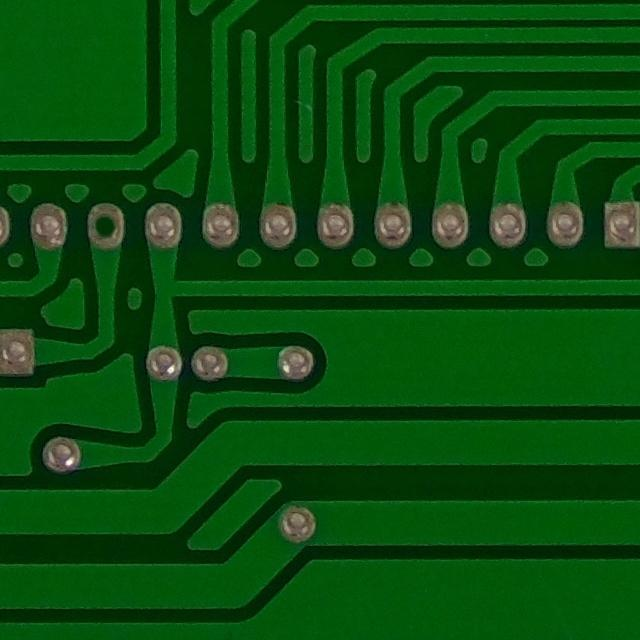missing_hole: (75, 194, 133, 251)
